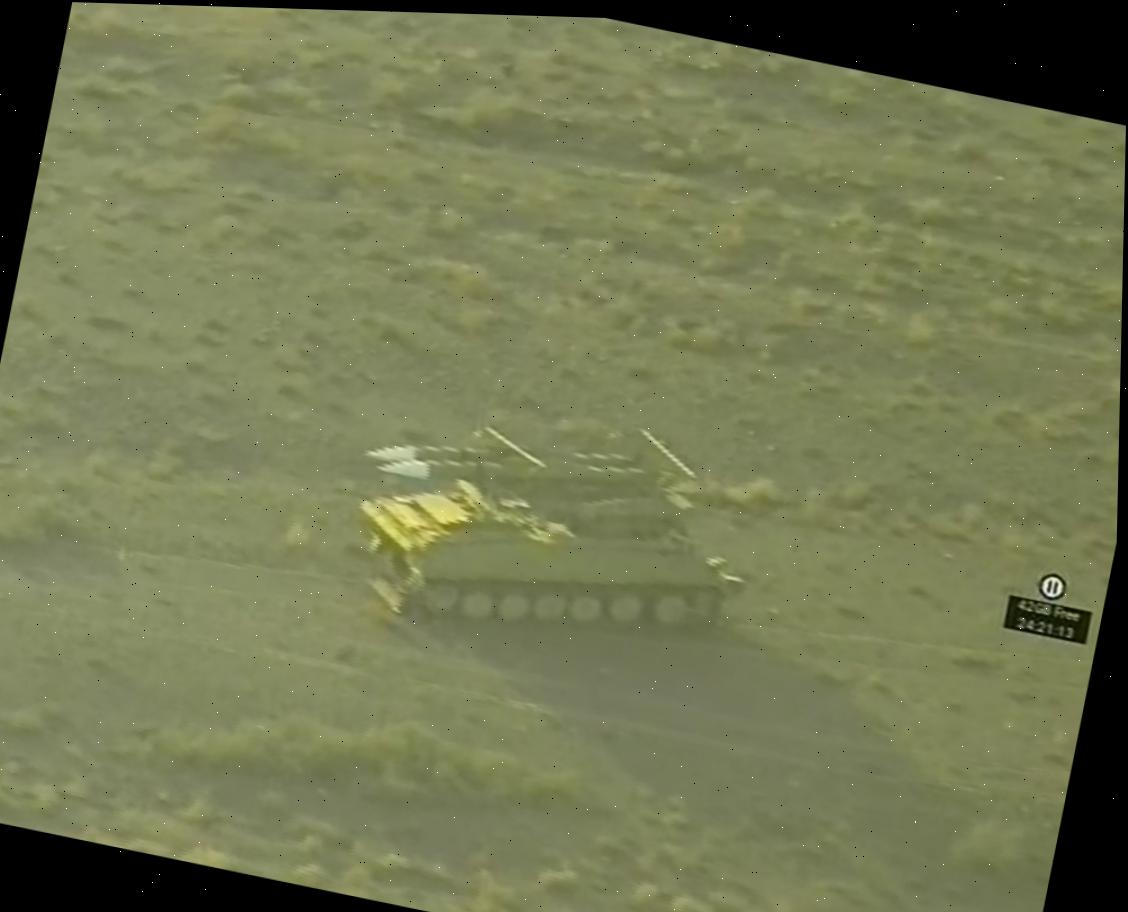armored_car: (322, 356, 792, 696)
